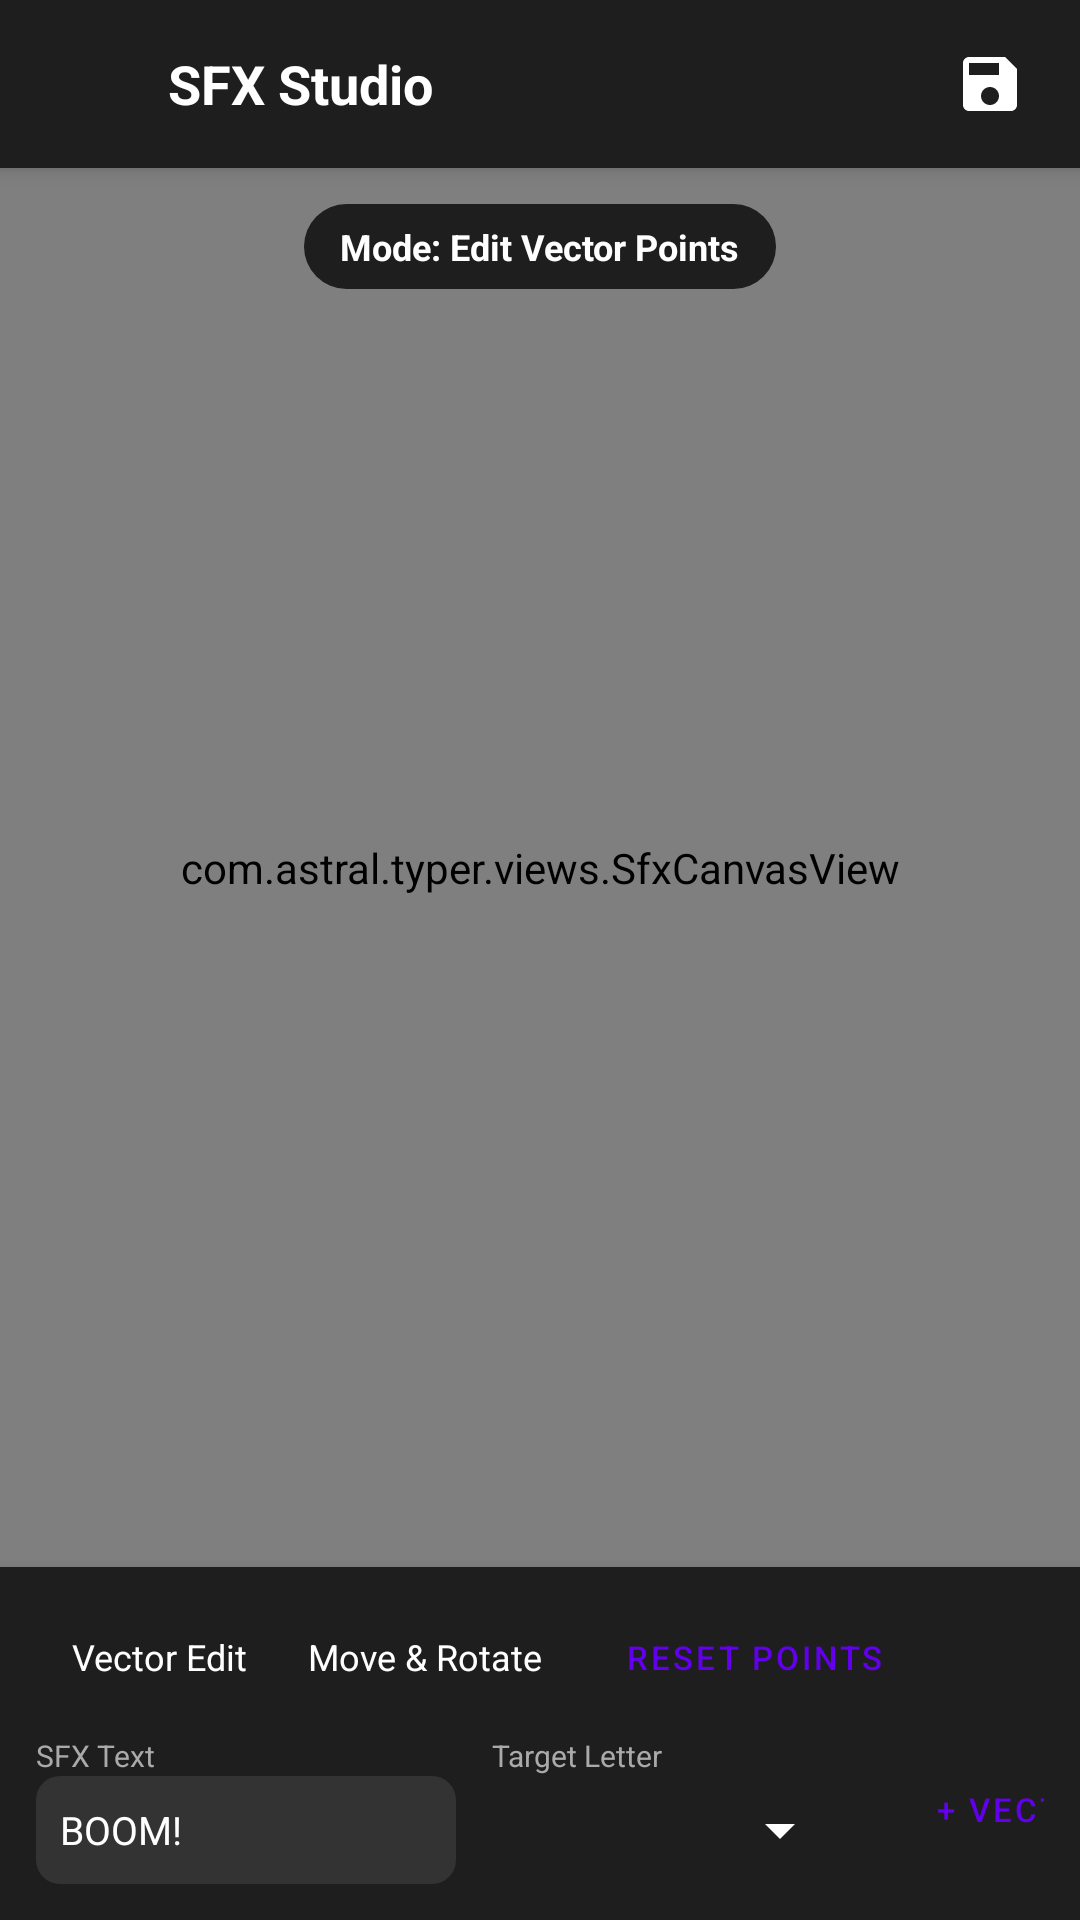

Icon click points for this 1080x1920 phone screenshot, format (x=x, y=y):
Save Preset: (x=990, y=84)
